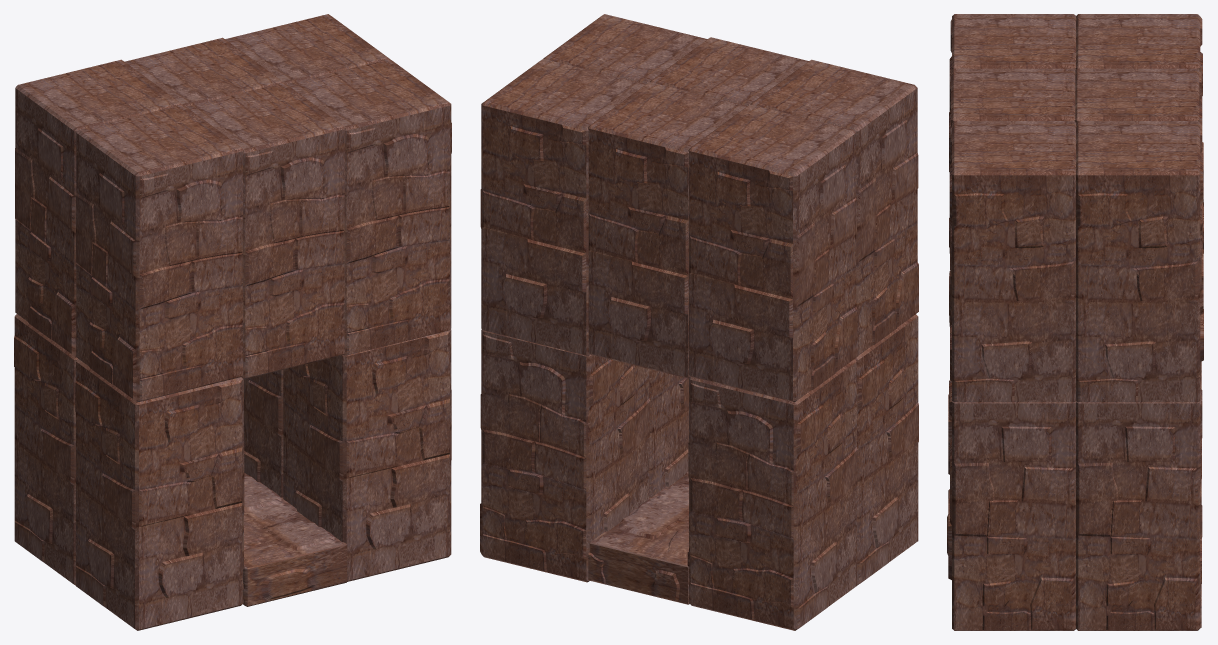
File: tunel.fbx
3 renders of one model, left to right at view 1: azimuth 30°, elevation 25°; view 2: azimuth 150°, elevation 25°; view 3: azimuth 270°, elevation 25°, orthographic.
Parts seen in each view (by area): view 1: pCube48, pCube47, pCube51, pCube50, pCube49, pCube42, pCube3, pCube46, pCube41, pCube45, pCube2, pCube5; view 2: pCube42, pCube3, pCube2, pCube41, pCube45, pCube48, pCube47, pCube5, pCube50, pCube49, pCube51; view 3: pCube41, pCube50, pCube51, pCube2, pCube42, pCube48, pCube49, pCube45.
Boxes of the visible parts, x1=… form: pCube48: x1=76, y1=104, x2=244, y2=401; pCube47: x1=75, y1=359, x2=244, y2=630; pCube51: x1=283, y1=329, x2=451, y2=581; pCube50: x1=286, y1=59, x2=451, y2=355; pCube49: x1=186, y1=82, x2=345, y2=379; pCube42: x1=15, y1=59, x2=182, y2=356; pCube3: x1=14, y1=314, x2=77, y2=585; pCube46: x1=243, y1=508, x2=347, y2=606; pCube41: x1=225, y1=14, x2=389, y2=83; pCube45: x1=125, y1=37, x2=284, y2=106; pCube2: x1=244, y1=370, x2=283, y2=497; pCube5: x1=244, y1=473, x2=294, y2=520; pCube42: x1=688, y1=104, x2=857, y2=401; pCube3: x1=687, y1=359, x2=857, y2=630; pCube2: x1=480, y1=329, x2=649, y2=582; pCube41: x1=480, y1=59, x2=645, y2=355; pCube45: x1=588, y1=82, x2=747, y2=378; pCube48: x1=750, y1=59, x2=918, y2=355; pCube47: x1=855, y1=314, x2=918, y2=585; pCube5: x1=588, y1=488, x2=689, y2=604; pCube50: x1=543, y1=14, x2=707, y2=83; pCube49: x1=650, y1=37, x2=808, y2=105; pCube51: x1=649, y1=369, x2=688, y2=497; pCube41: x1=1076, y1=120, x2=1203, y2=402; pCube50: x1=949, y1=120, x2=1075, y2=402; pCube51: x1=948, y1=380, x2=1075, y2=630; pCube2: x1=1076, y1=388, x2=1202, y2=630; pCube42: x1=1076, y1=14, x2=1203, y2=253; pCube48: x1=949, y1=14, x2=1075, y2=269; pCube49: x1=949, y1=68, x2=1075, y2=326; pCube45: x1=1075, y1=68, x2=1202, y2=248.
Bounding box in the file's own units: 8.08 × 11.07 × 5.55.
Materials: 3 (3 with a texture image).
